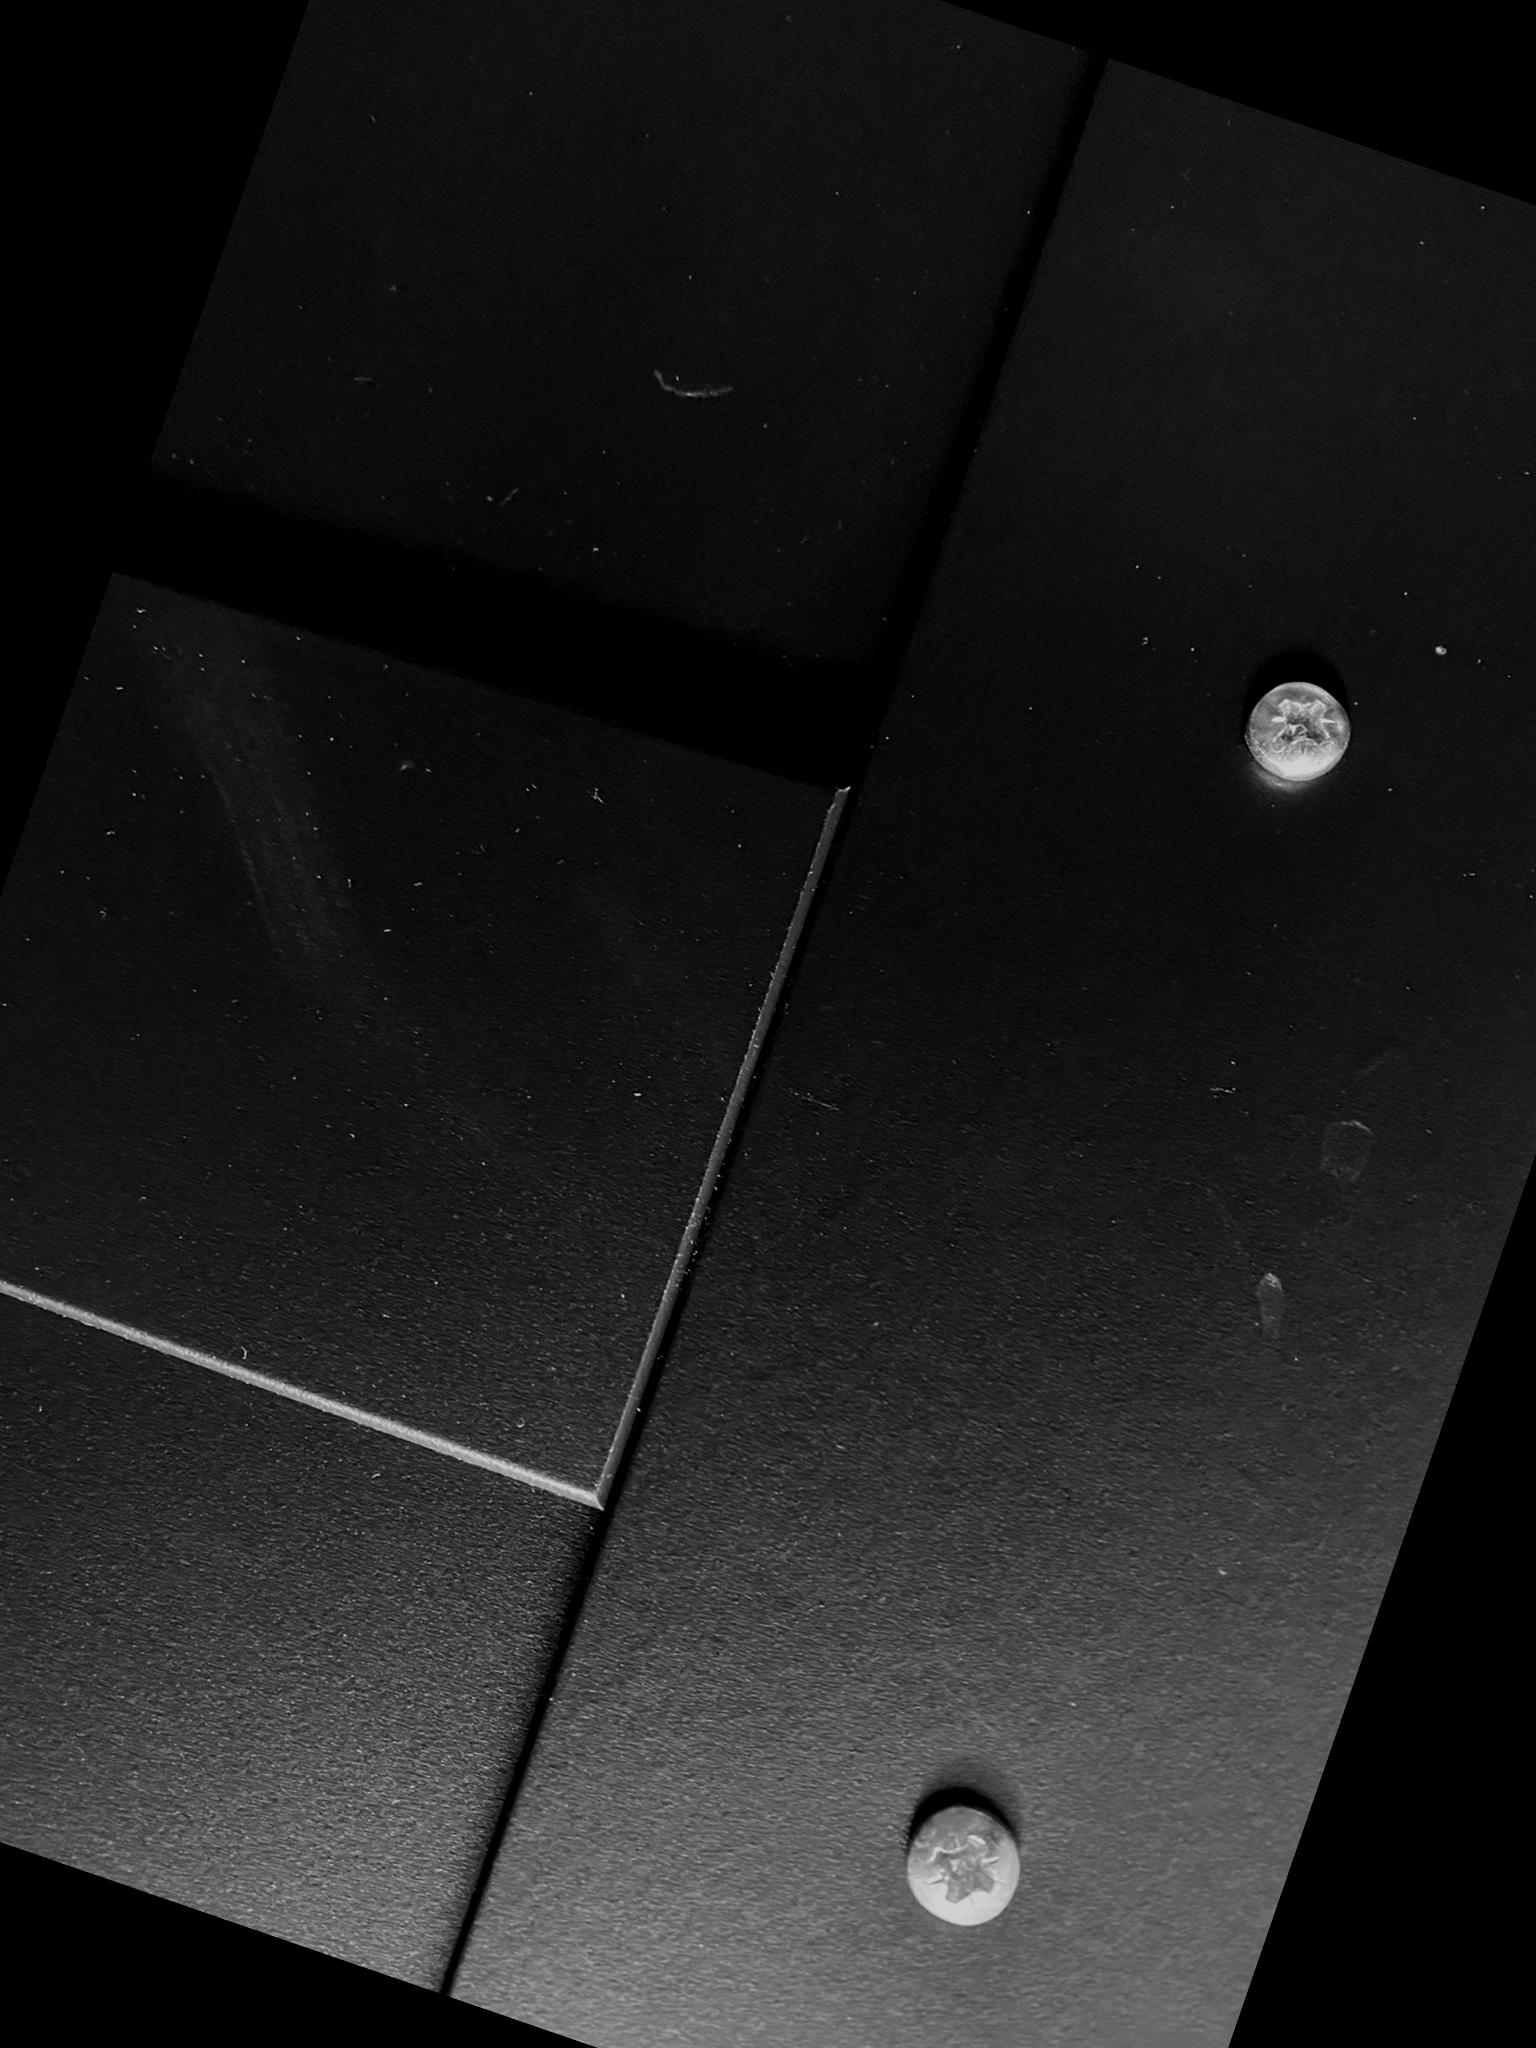screw: (887, 1784, 1041, 1942), (1231, 663, 1365, 797)
